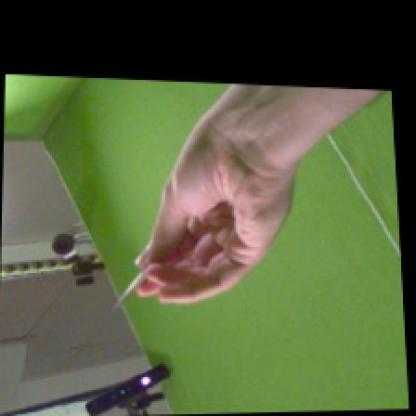Hand: (134, 114, 293, 306)
